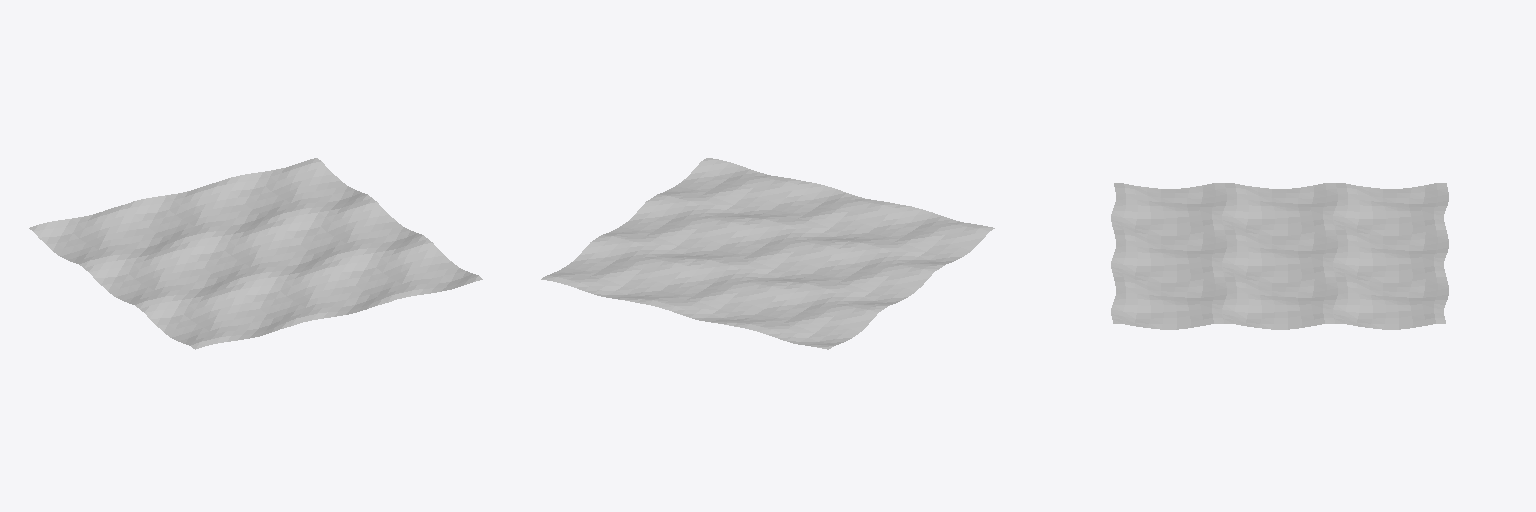
Rendered from ocean_000082.obj.
3 renders of one model, left to right at view 1: azimuth 30°, elevation 25°; view 2: azimuth 150°, elevation 25°; view 3: azimuth 270°, elevation 25°, orthographic.
Parts seen in each view (by area): view 1: Ocean_Plan.001; view 2: Ocean_Plan.001; view 3: Ocean_Plan.001.
Boxes of the visible parts, box(x1,y1,x2,y2) form: Ocean_Plan.001: box(29, 158, 482, 349); Ocean_Plan.001: box(541, 158, 994, 349); Ocean_Plan.001: box(1111, 183, 1448, 329).
Size of the model in its own units: 109265 by 2402 by 110612.